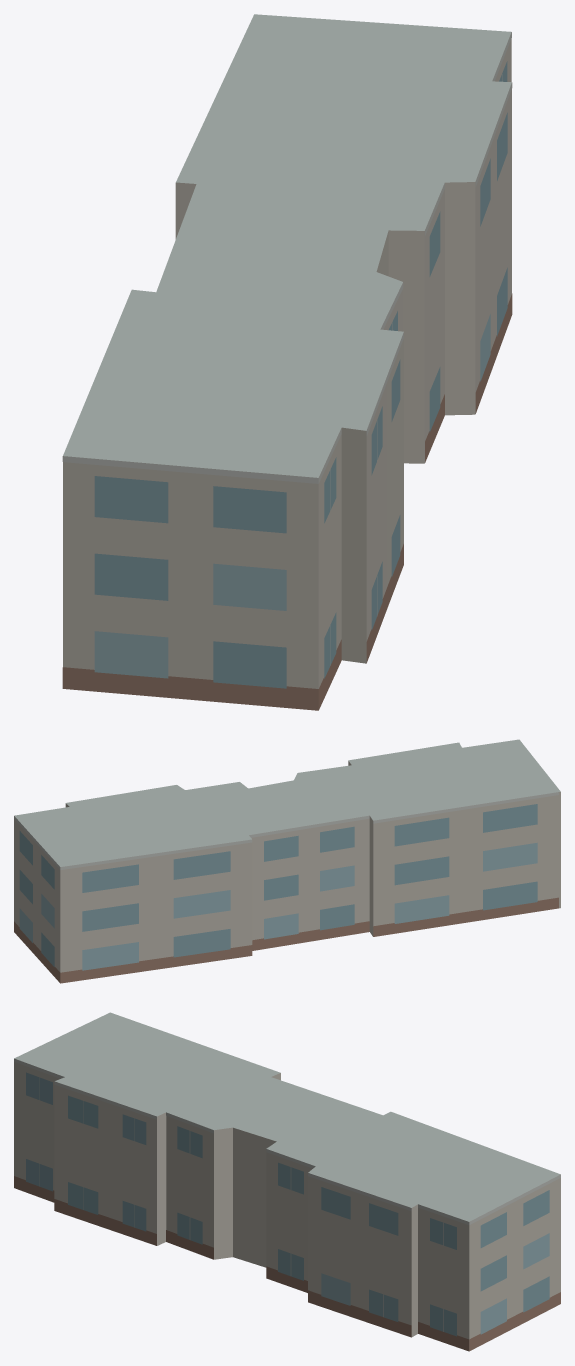
File: survey-upis-32497896.glb
The picture shows the model from 3 angles, top to bottom: view 1: azimuth 30°, elevation 25°; view 2: azimuth 150°, elevation 25°; view 3: azimuth 270°, elevation 25°; orthographic projection. The views are drawn at different scales.
Visible parts, largest first — view 1: survey-upis-32497896.tmp; view 2: survey-upis-32497896.tmp; view 3: survey-upis-32497896.tmp.
Part boxes in pixels (left/top/right/bottom): survey-upis-32497896.tmp: left=62, top=14, right=512, bottom=710; survey-upis-32497896.tmp: left=14, top=739, right=560, bottom=983; survey-upis-32497896.tmp: left=14, top=1012, right=560, bottom=1351.
Size of the model in its own units: 32.43 by 9.35 by 35.77.
